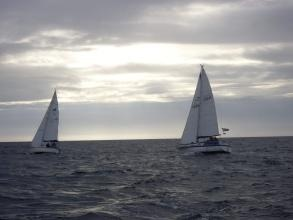fanchuan: (173, 64, 232, 156), (25, 89, 67, 157)
